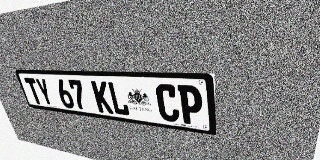6: (54, 79, 76, 109)
7: (67, 80, 89, 111)
C: (155, 84, 180, 123)
K: (91, 81, 114, 114)
L: (107, 81, 130, 116)
P: (177, 85, 203, 126)
T: (24, 78, 44, 105)
Y: (34, 78, 55, 106)
